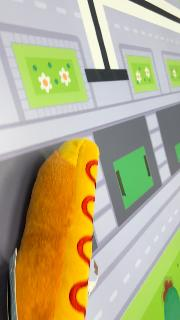hotdog: (13, 137, 101, 319)
